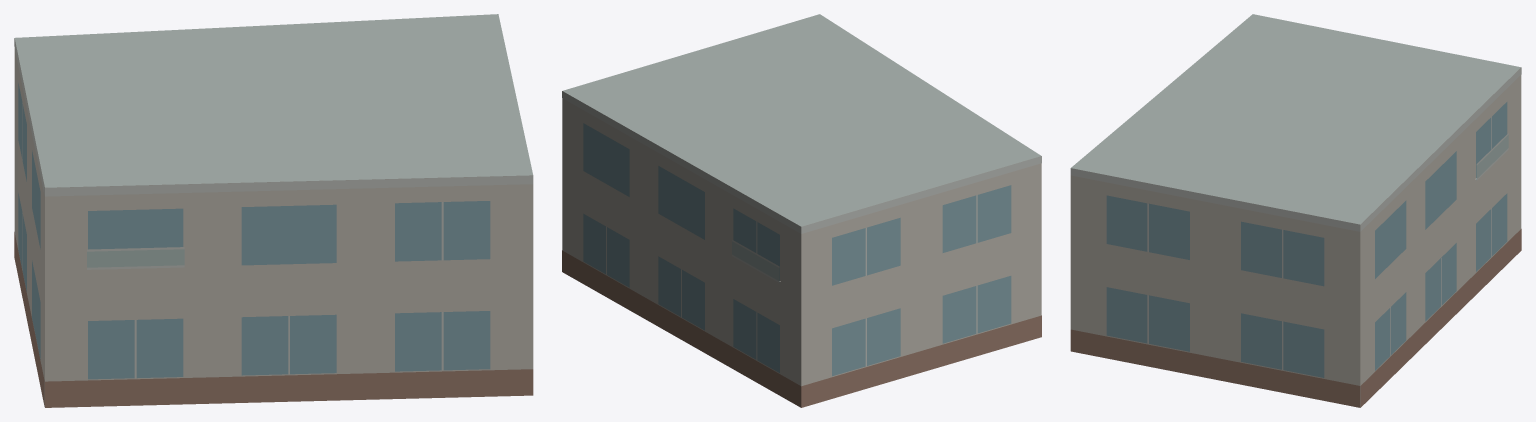
File: survey-upis-32928337.glb
3 renders of one model, left to right at view 1: azimuth 30°, elevation 25°; view 2: azimuth 150°, elevation 25°; view 3: azimuth 270°, elevation 25°, orthographic. The views are drawn at different scales.
Parts seen in each view (by area): view 1: survey-upis-32928337.tmp; view 2: survey-upis-32928337.tmp; view 3: survey-upis-32928337.tmp.
Boxes of the visible parts, bbox=[...] form: survey-upis-32928337.tmp: bbox=[14, 14, 533, 407]; survey-upis-32928337.tmp: bbox=[562, 14, 1041, 407]; survey-upis-32928337.tmp: bbox=[1070, 14, 1521, 407].
Bounding box in the file's own units: 15.04 × 6.1 × 13.6.
